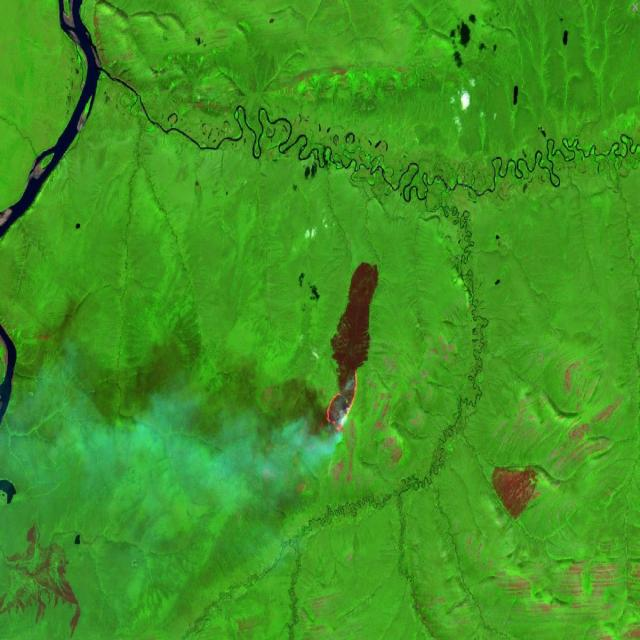fire: (315, 368, 370, 431)
